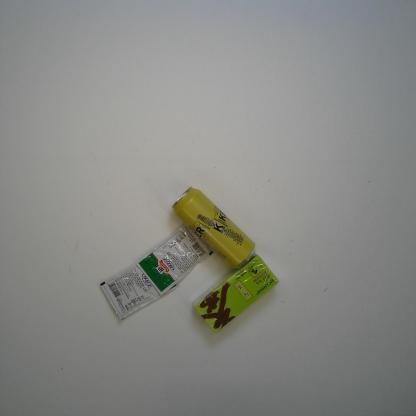Alcohol: (171, 186, 256, 271)
Instant Drink: (192, 253, 281, 334)
Seasoner: (137, 224, 214, 297), (99, 265, 179, 321)
